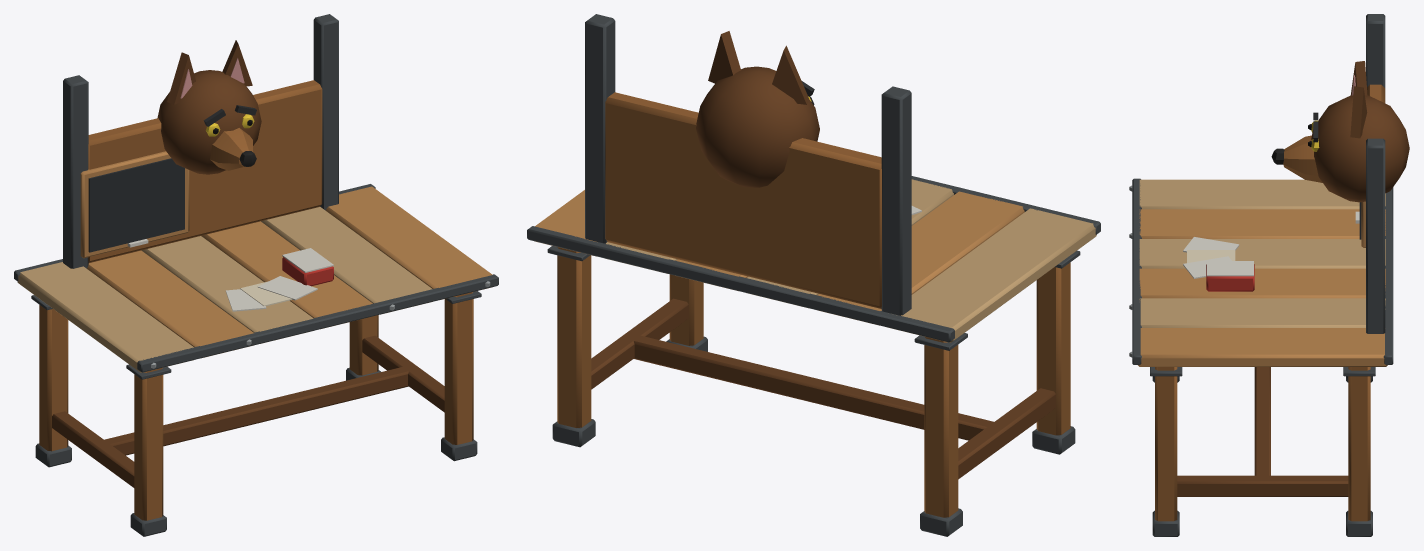
The model's file is 167_table_loup_cartes.fbx.
3 renders of one model, left to right at view 1: azimuth 30°, elevation 25°; view 2: azimuth 150°, elevation 25°; view 3: azimuth 270°, elevation 25°, orthographic. The views are drawn at different scales.
Parts seen in each view (by area): view 1: Plateau, Loup, Table, Ardoise, Paquet; view 2: Loup, Table, Plateau; view 3: Plateau, Loup, Table, Paquet, Ardoise.
Boxes of the visible parts, x1,y1,x2,y2 form: Plateau: (14, 184, 498, 372); Loup: (63, 14, 338, 268); Table: (31, 291, 481, 536); Ardoise: (80, 151, 189, 258); Paquet: (225, 248, 333, 311); Loup: (585, 14, 911, 315); Table: (547, 246, 1080, 536); Plateau: (527, 176, 1100, 342); Plateau: (1129, 178, 1393, 366); Loup: (1271, 14, 1409, 333); Table: (1150, 367, 1375, 536); Paquet: (1183, 237, 1254, 291); Ardoise: (1355, 201, 1365, 247).
Bounding box in the file's own units: 1.68 × 1.68 × 1.12.
1 material, 1 textured.
